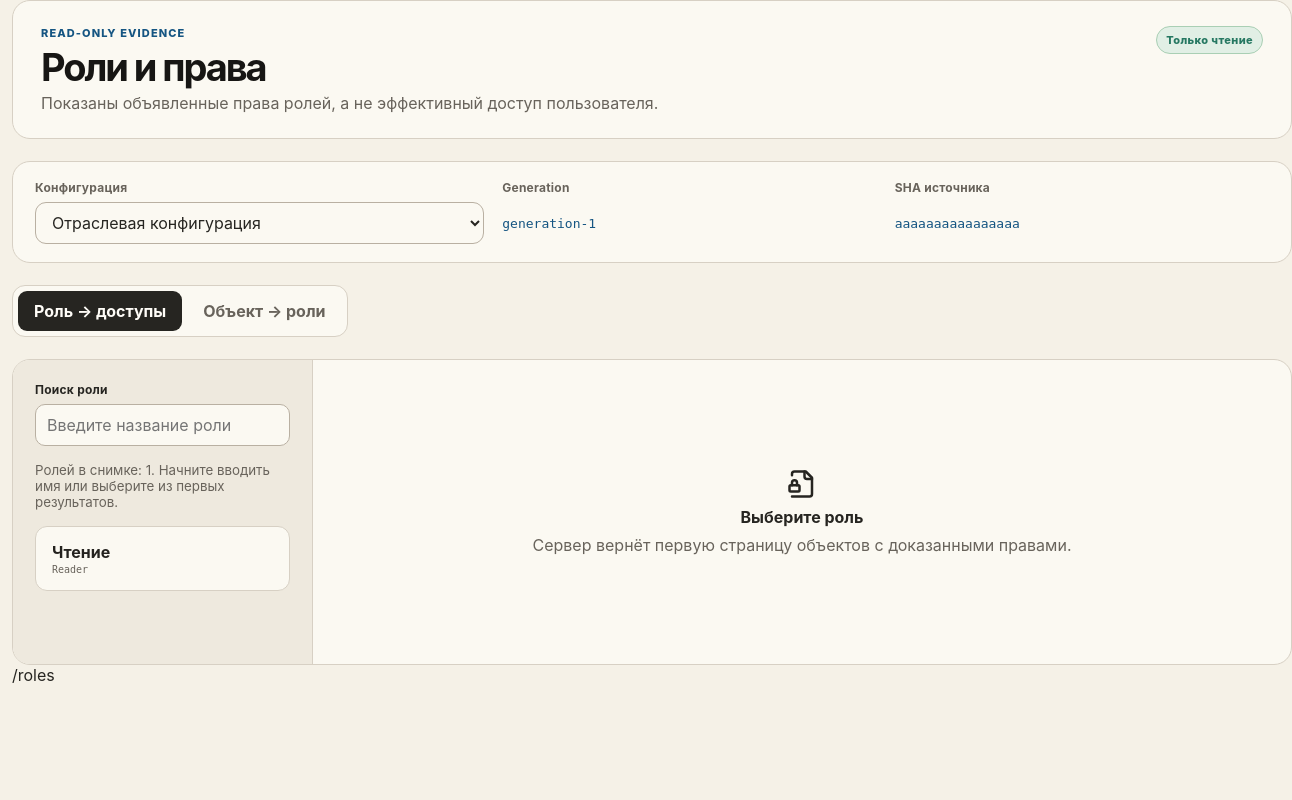
Test case: показывает серверный resolver объект → роли и не вычисляет минимум сам
This screenshot has width=1292, height=800.
Click the tab "Объект → роли" at (264, 311), box [187, 291, 342, 331]
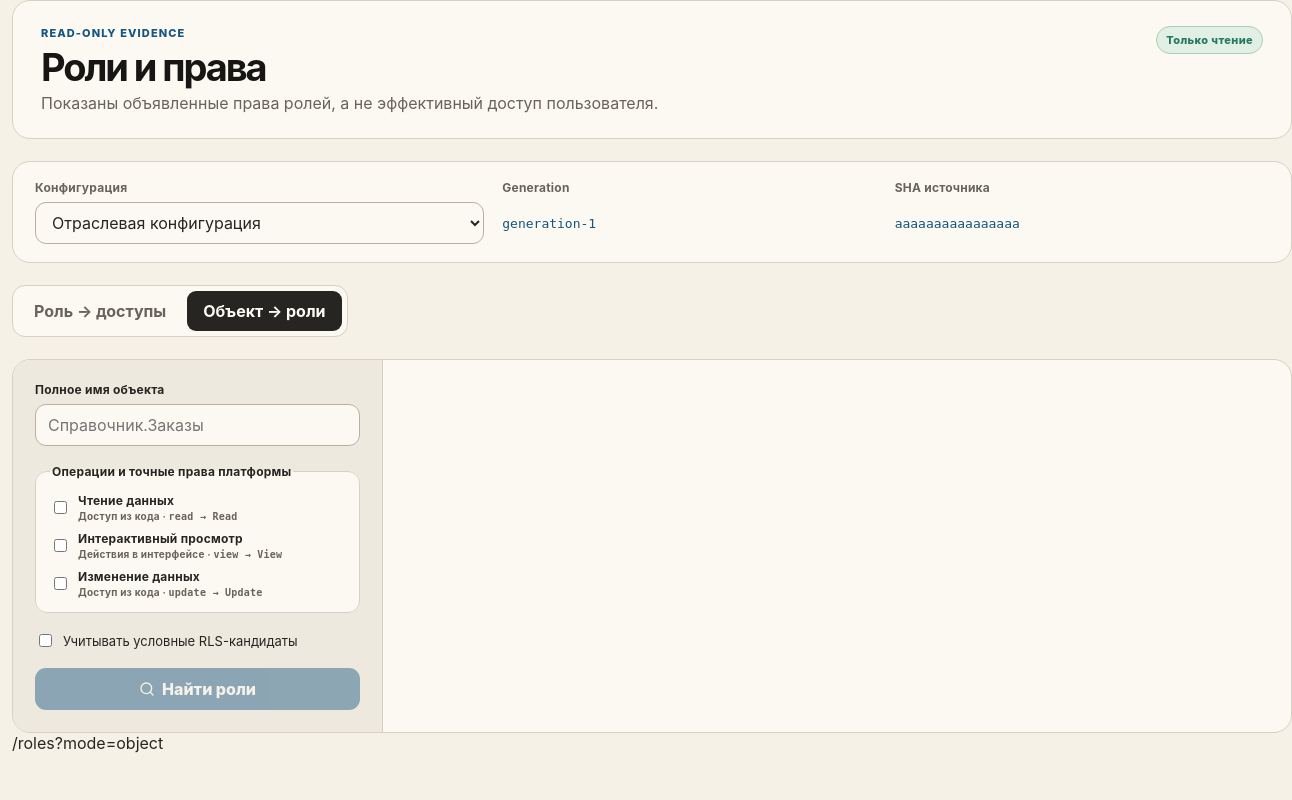
Type "Справочник.Orders" into the field labelled "Полное имя объекта" at (198, 425), box [35, 404, 360, 446]
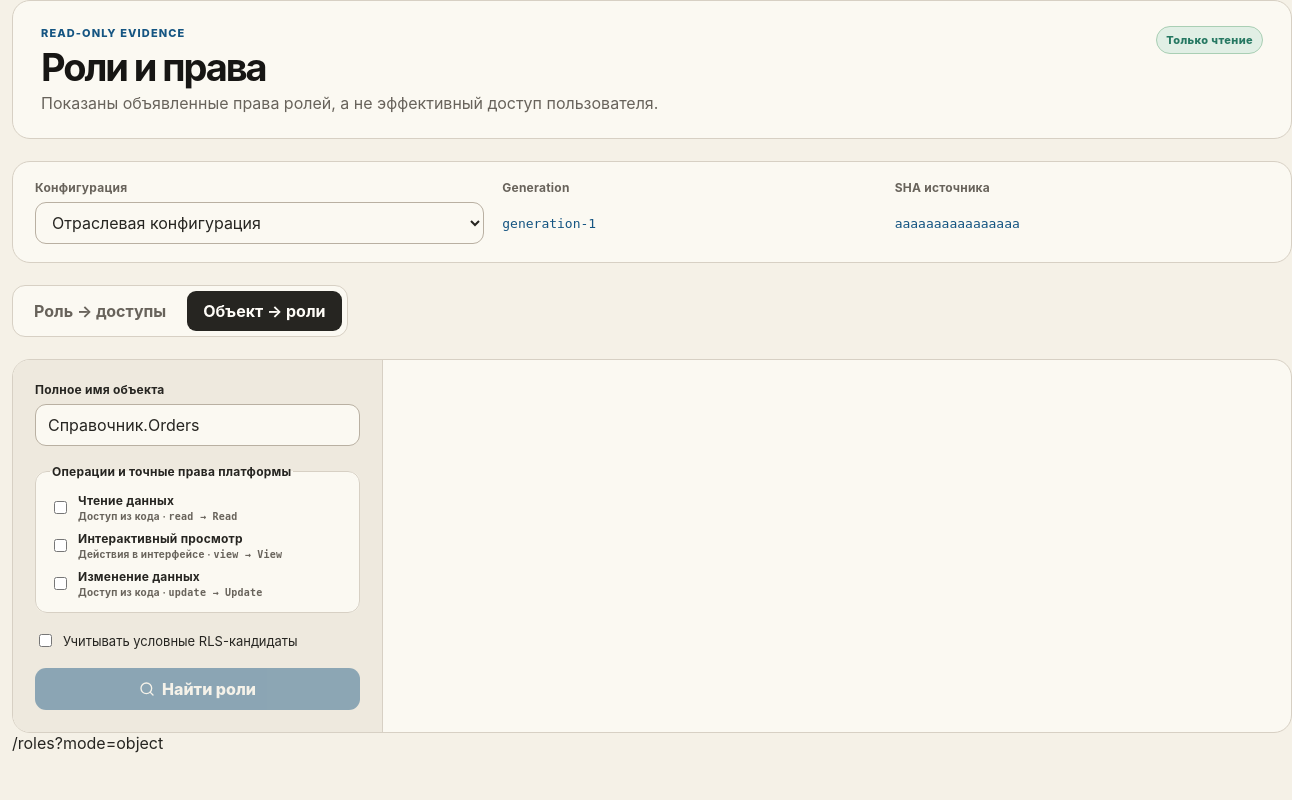
Click the checkbox labelled "read → Read" at (60, 508), box [54, 501, 67, 514]
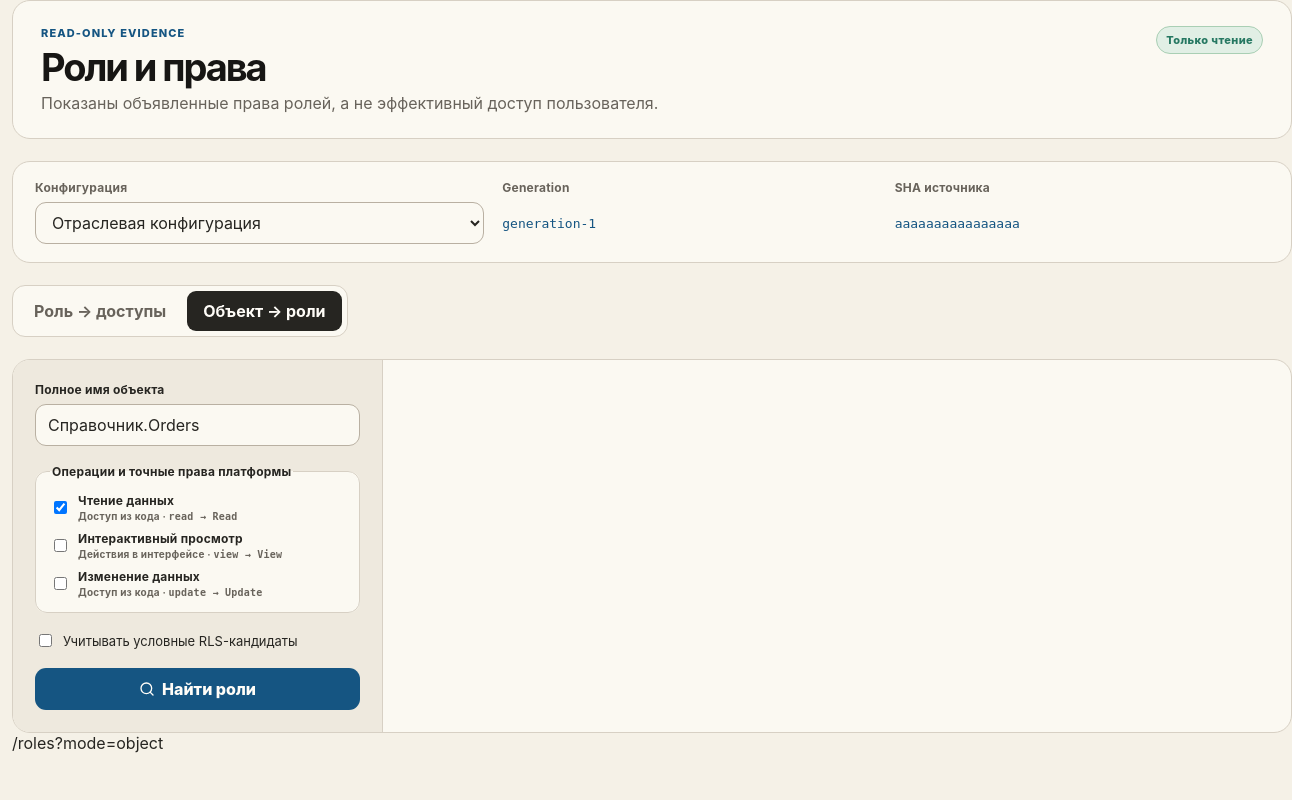
Click the checkbox labelled "update → Update" at (60, 584), box [54, 577, 67, 590]
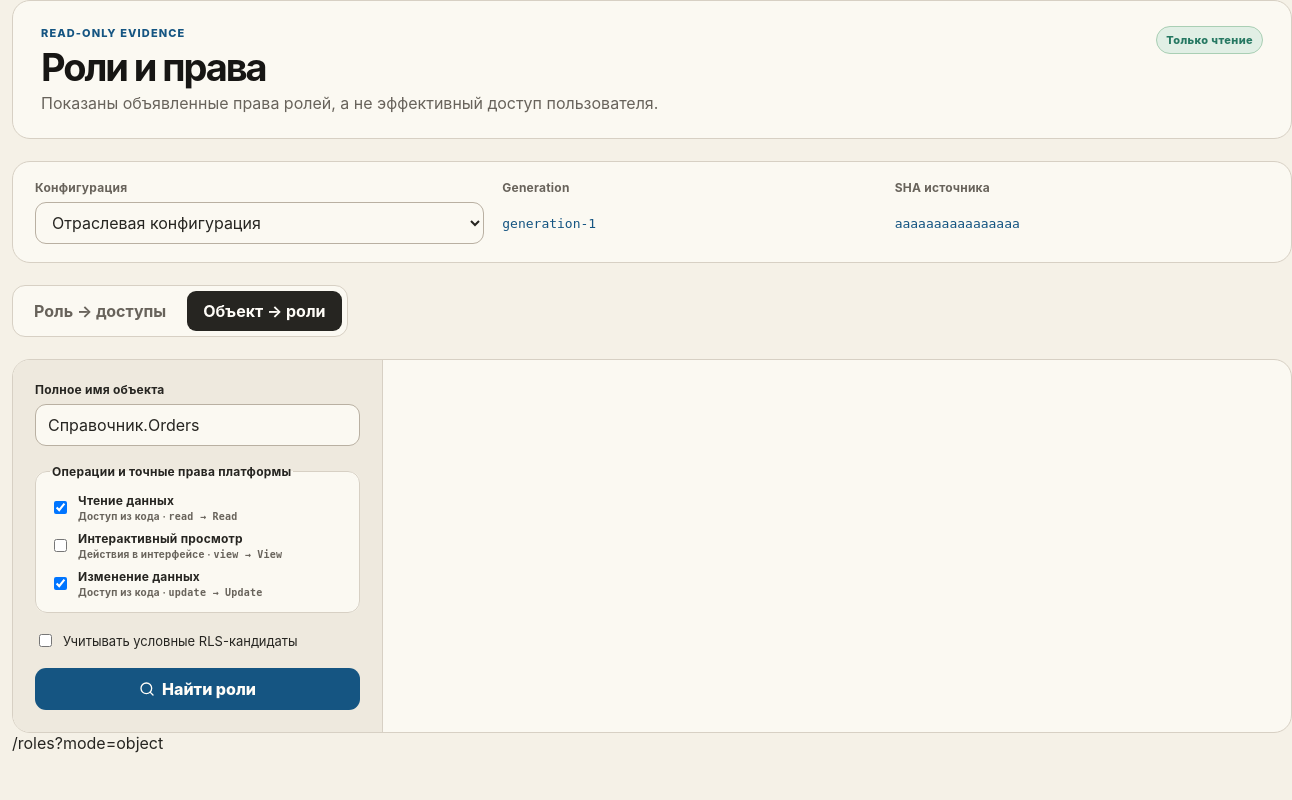
Click the button "Найти роли" at (198, 689), box [35, 668, 360, 710]
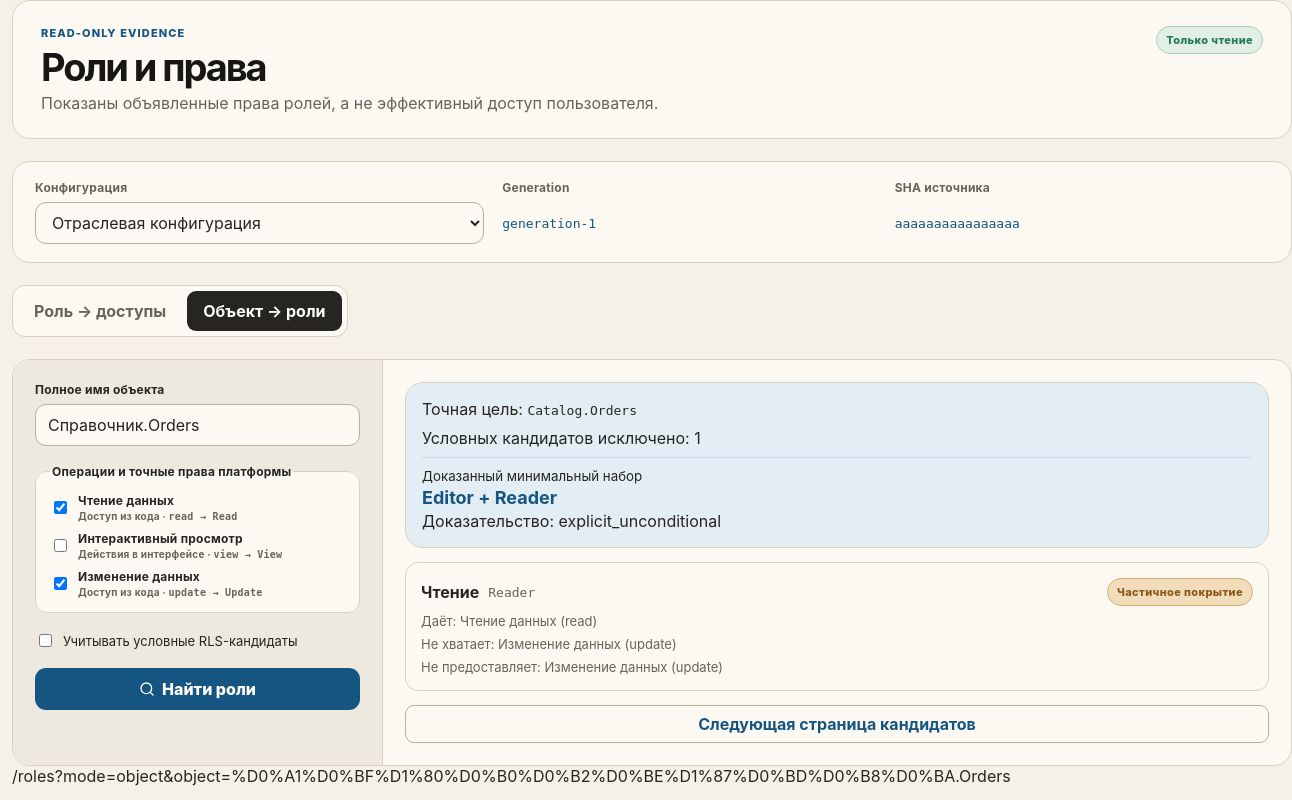
Check: the text "Editor + Reader" is shown, box [422, 487, 557, 508]
Check: the text "Доказательство: explicit_unconditional" is shown, box [422, 511, 721, 531]
Check: the text "Не хватает: Изменение данных (update)" is shown, box [421, 636, 677, 652]
